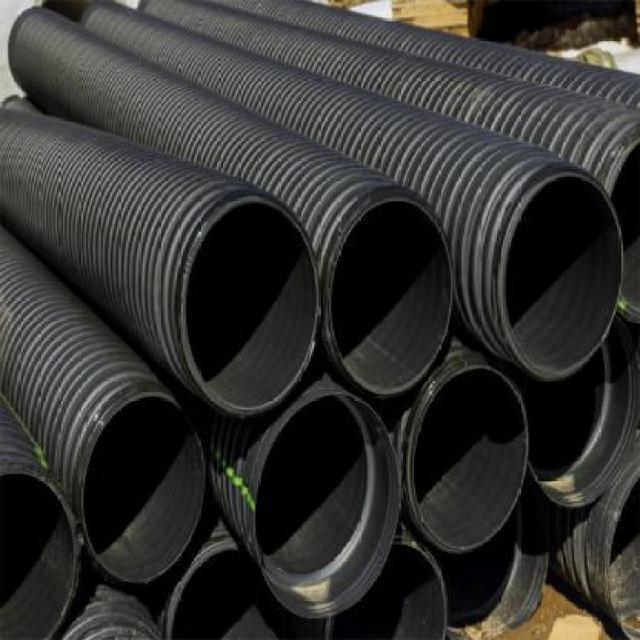pipe: (252, 382, 400, 620), (184, 188, 319, 416), (324, 196, 452, 397), (505, 166, 623, 380), (403, 360, 529, 554), (83, 398, 205, 584), (525, 320, 639, 508)
